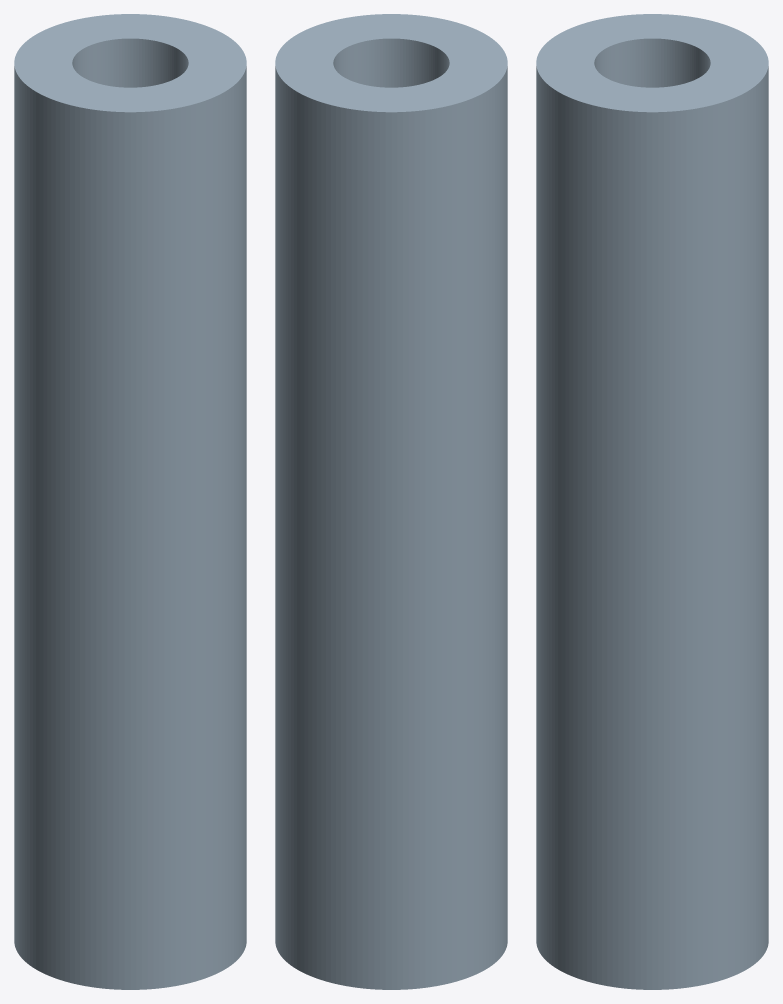
File: evr-core-illustrative.glb
The picture shows the model from 3 angles, left to right: view 1: azimuth 30°, elevation 25°; view 2: azimuth 150°, elevation 25°; view 3: azimuth 270°, elevation 25°; orthographic projection.
Visible parts, largest first — view 1: world; view 2: world; view 3: world.
Part boxes in pixels (bbox=[...]): world: bbox=[14, 14, 246, 989]; world: bbox=[275, 14, 507, 989]; world: bbox=[536, 14, 768, 989].
Bounding box in the file's own units: 0.006 × 0.025 × 0.006.
